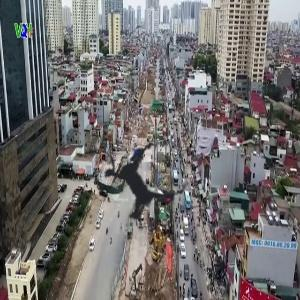drone: (61, 104, 217, 260)
